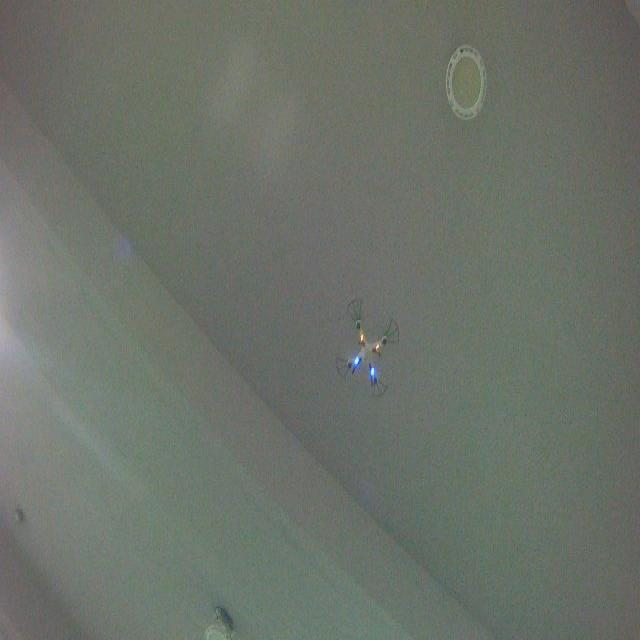drone: (333, 295, 402, 403)
